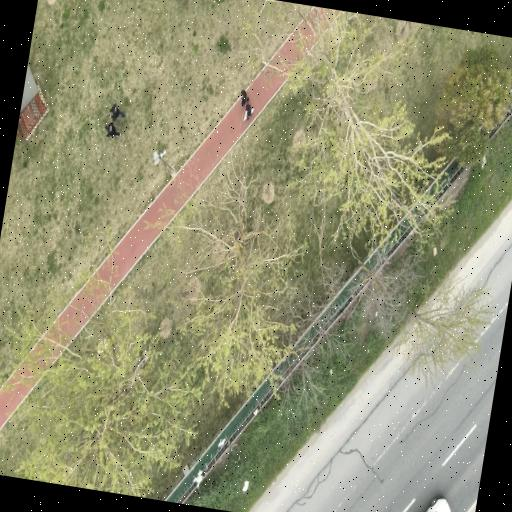person: (109, 104, 124, 120), (105, 122, 119, 137), (243, 103, 252, 120), (240, 89, 248, 105)
